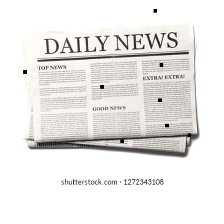news_paper: (20, 19, 208, 159)
